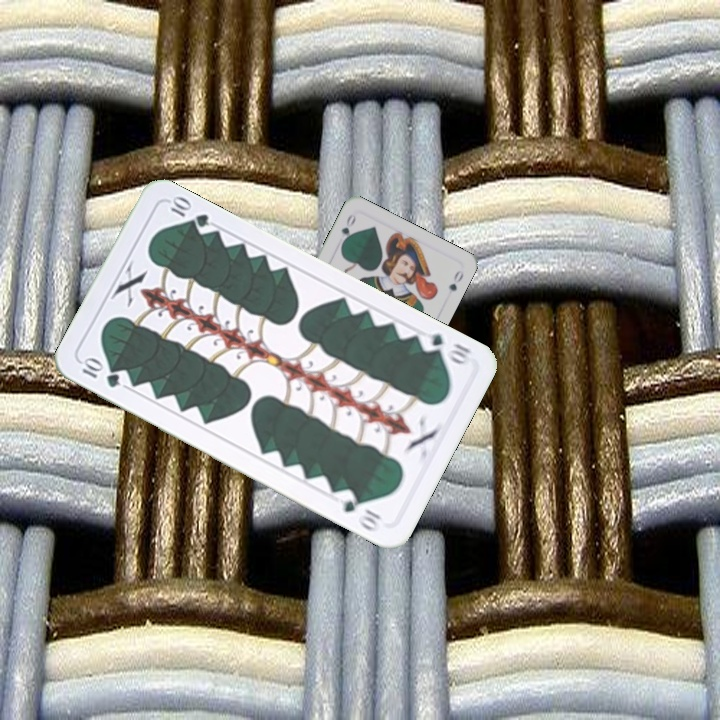G10: (415, 327, 474, 369), (76, 354, 123, 391)
GO: (337, 210, 358, 249)
